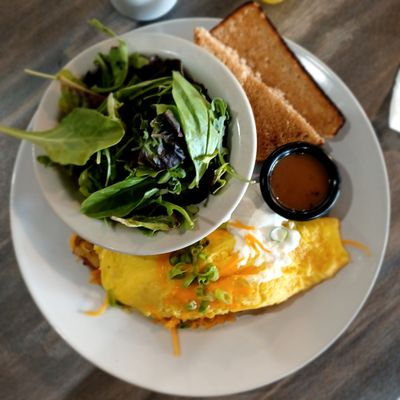soup: (193, 0, 342, 162)
sushi: (5, 28, 258, 312), (258, 145, 347, 222)
